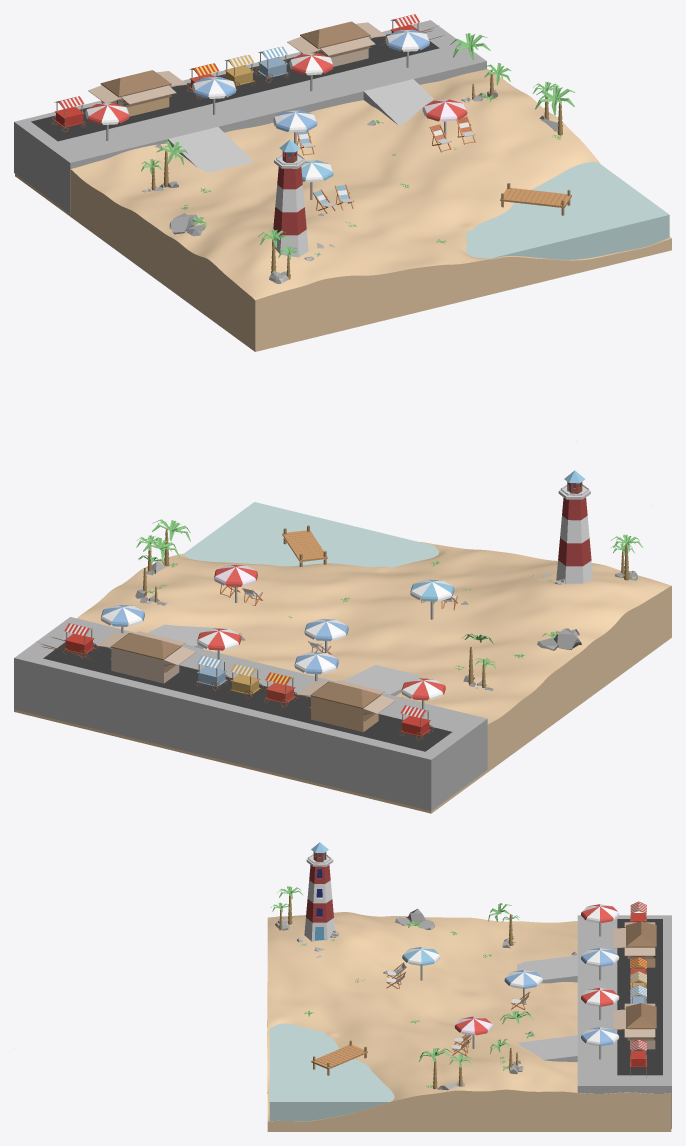
The model's file is map final.glb.
3 renders of one model, top to bottom at view 1: azimuth 30°, elevation 25°; view 2: azimuth 150°, elevation 25°; view 3: azimuth 270°, elevation 25°, orthographic. The views are drawn at different scales.
Visible parts, largest first — view 1: Plane.001, Plane.019, Plane.004, Circle.012, Cube.375, Cube.374, Plane.065, Plane.066, Circle.017, Circle.052, Circle.016, Circle.020 (+2 smaller); view 2: Plane.001, Plane.019, Plane.004, Circle.012, Cube.217, Cube.160, Cube.375, Plane.065, Plane.066, Circle.021, Circle.052, Circle.019 (+5 smaller); view 3: Plane.001, Plane.019, Plane.004, Circle.012, Cube.375, Cube.374, Plane.065, Plane.066, Circle.016, Circle.021, Circle.052, Circle.018 (+3 smaller).
Part boxes in pixels (left/top/right/bottom): Plane.001: left=15, top=69, right=671, bottom=351; Plane.019: left=14, top=20, right=486, bottom=213; Plane.004: left=466, top=162, right=669, bottom=259; Circle.012: left=272, top=166, right=308, bottom=257; Cube.375: left=168, top=127, right=253, bottom=172; Cube.374: left=363, top=79, right=433, bottom=125; Plane.065: left=100, top=70, right=171, bottom=97; Plane.066: left=300, top=21, right=370, bottom=48; Circle.017: left=385, top=29, right=429, bottom=51; Circle.052: left=273, top=110, right=317, bottom=132; Circle.016: left=422, top=99, right=467, bottom=121; Circle.020: left=85, top=103, right=129, bottom=124; Plane.001: left=14, top=542, right=671, bottom=813; Plane.019: left=14, top=617, right=487, bottom=810; Plane.004: left=183, top=502, right=438, bottom=567; Circle.012: left=556, top=497, right=592, bottom=583; Cube.217: left=110, top=647, right=179, bottom=683; Cube.160: left=309, top=696, right=378, bottom=732; Cube.375: left=343, top=665, right=420, bottom=695; Plane.065: left=310, top=681, right=380, bottom=708; Plane.066: left=110, top=633, right=181, bottom=660; Circle.021: left=410, top=579, right=454, bottom=601; Circle.052: left=304, top=619, right=348, bottom=641; Circle.019: left=294, top=652, right=338, bottom=674; Plane.001: left=267, top=912, right=671, bottom=1131; Plane.019: left=577, top=915, right=671, bottom=1128; Plane.004: left=269, top=1023, right=394, bottom=1121; Circle.012: left=304, top=865, right=334, bottom=941; Cube.375: left=517, top=955, right=577, bottom=983; Cube.374: left=518, top=1035, right=577, bottom=1061; Plane.065: left=626, top=921, right=656, bottom=947; Plane.066: left=626, top=1003, right=656, bottom=1028; Circle.016: left=454, top=1016, right=492, bottom=1035; Circle.021: left=402, top=947, right=440, bottom=965; Circle.052: left=504, top=970, right=542, bottom=988; Circle.018: left=581, top=987, right=619, bottom=1006.
Size of the model in its own units: 101 by 44.61 by 163.
